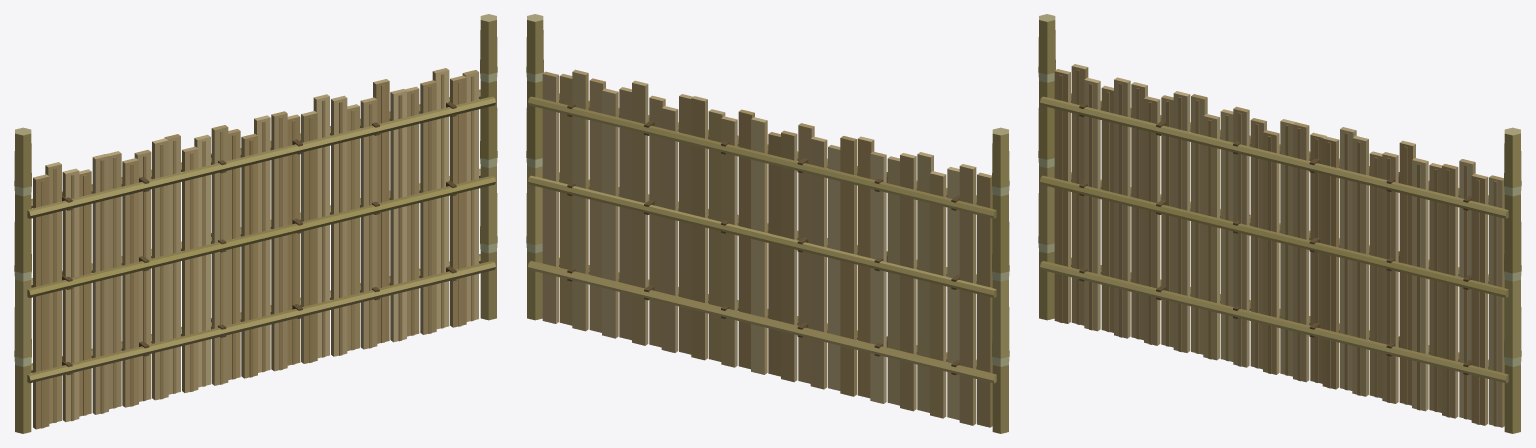
The model's file is zen_bamboo_fence.glb.
3 renders of one model, left to right at view 1: azimuth 30°, elevation 25°; view 2: azimuth 150°, elevation 25°; view 3: azimuth 330°, elevation 25°, orthographic.
Visible parts, largest first — view 1: zen_bamboo_fence; view 2: zen_bamboo_fence; view 3: zen_bamboo_fence.
Boxes of the visible parts, x1,y1,x2,y2 form: zen_bamboo_fence: [14, 14, 497, 433]; zen_bamboo_fence: [526, 14, 1009, 433]; zen_bamboo_fence: [1038, 14, 1521, 433].
Size of the model in its own units: 4.15 by 2.45 by 0.2199.
